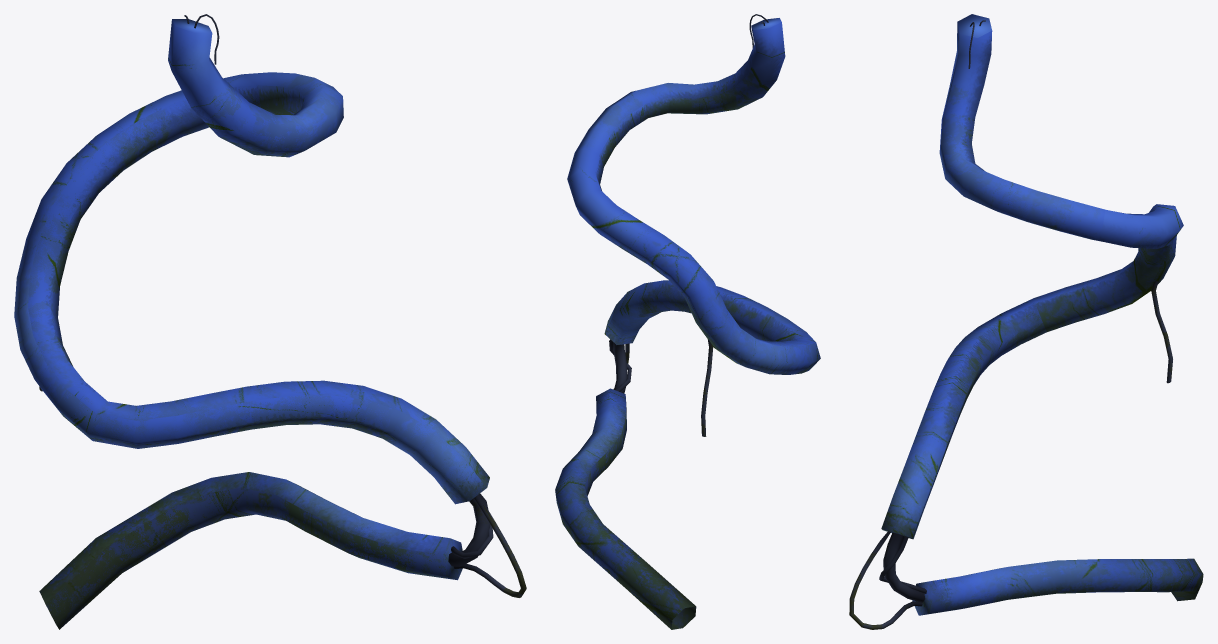
File: Tentacle_HighBuilding.fbx
The picture shows the model from 3 angles, left to right: view 1: azimuth 30°, elevation 25°; view 2: azimuth 150°, elevation 25°; view 3: azimuth 270°, elevation 25°; orthographic projection. The views are drawn at different scales.
Parts seen in each view (by area): view 1: Tentacle_HighBuildingh_Mesh; view 2: Tentacle_HighBuildingh_Mesh; view 3: Tentacle_HighBuildingh_Mesh.
Boxes of the visible parts, x1,y1,x2,y2 form: Tentacle_HighBuildingh_Mesh: (14,14,526,629); Tentacle_HighBuildingh_Mesh: (555,14,820,629); Tentacle_HighBuildingh_Mesh: (849,14,1203,629).
Bounding box in the file's own units: 1702 × 3127 × 1707.
